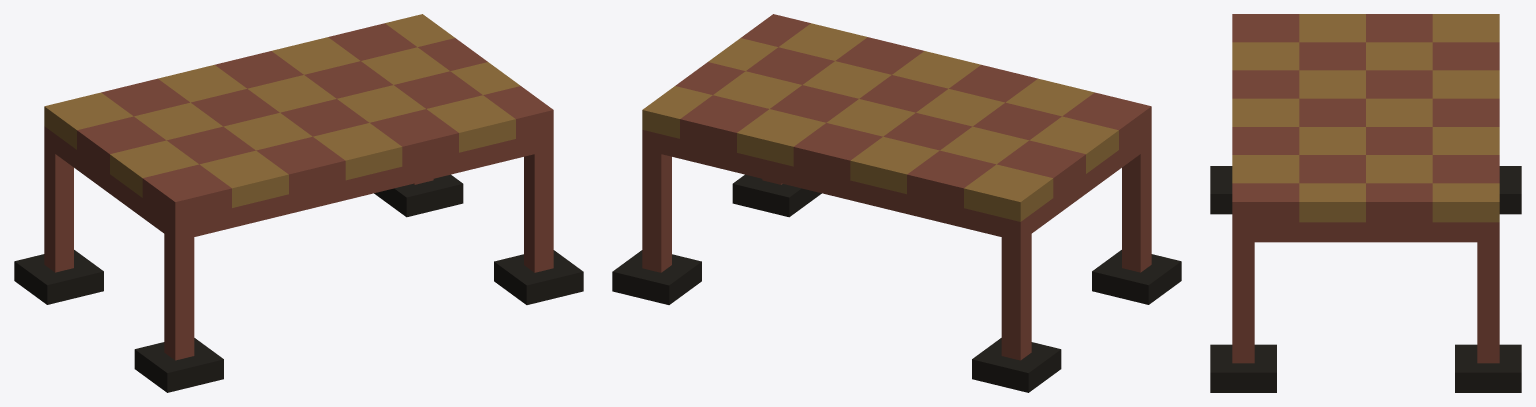
File: Medieval Assets-14-Decoration - Table - Checker Variant2.obj
The picture shows the model from 3 angles, left to right: view 1: azimuth 30°, elevation 25°; view 2: azimuth 150°, elevation 25°; view 3: azimuth 270°, elevation 25°; orthographic projection.
Visible parts, largest first — view 1: Decoration - Table - Checker Variant2; view 2: Decoration - Table - Checker Variant2; view 3: Decoration - Table - Checker Variant2.
Boxes of the visible parts, x1=… form: Decoration - Table - Checker Variant2: x1=14, y1=14, x2=583, y2=392; Decoration - Table - Checker Variant2: x1=612, y1=14, x2=1181, y2=392; Decoration - Table - Checker Variant2: x1=1210, y1=14, x2=1521, y2=392.
Size of the model in its own units: 2.2 by 0.9 by 1.4.
1 material, 1 textured.
